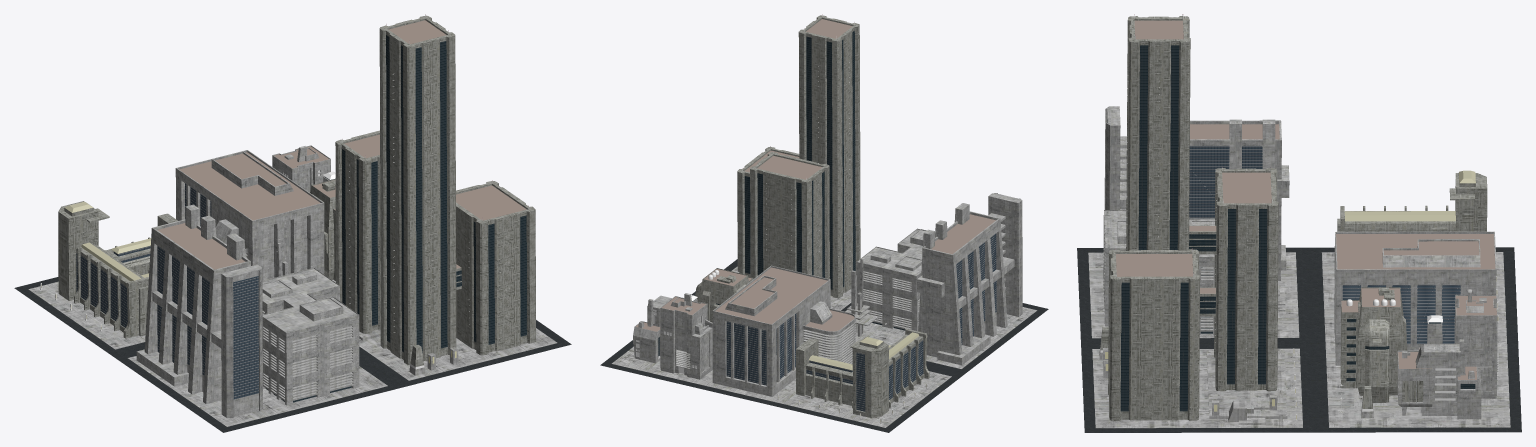
The model's file is Builds9.FBX.
3 renders of one model, left to right at view 1: azimuth 30°, elevation 25°; view 2: azimuth 150°, elevation 25°; view 3: azimuth 270°, elevation 25°, orthographic. The views are drawn at different scales.
Parts seen in each view (by area): view 1: Block09_1; view 2: Block09_1; view 3: Block09_1.
Part boxes in pixels (x1,y1,x2,y2): Block09_1: [14, 14, 571, 432]; Block09_1: [600, 14, 1048, 432]; Block09_1: [1077, 14, 1521, 432].
Bounding box in the file's own units: 2.48 × 2.14 × 2.48.
